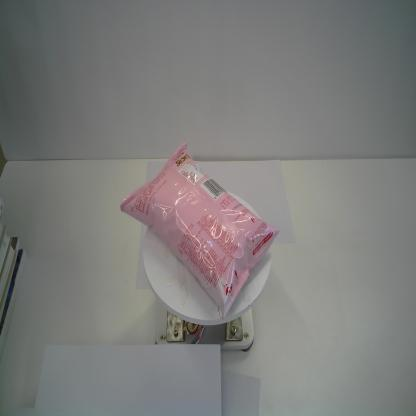Puffed Food: (118, 140, 280, 322)
